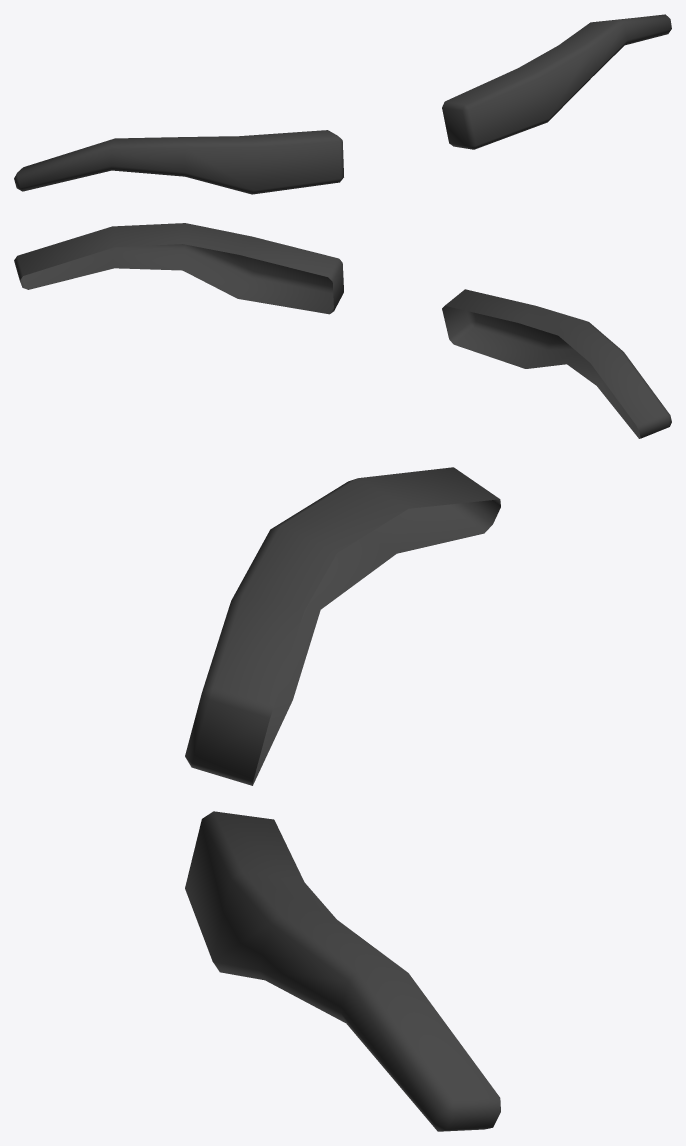
File: Eyebrow_007.glb
3 views of the same model, one above another, from view 1: azimuth 30°, elevation 25°; view 2: azimuth 150°, elevation 25°; view 3: azimuth 270°, elevation 25° (orthographic). The views are drawn at different scales.
Visible parts, largest first — view 1: Eyebrow_007; view 2: Eyebrow_007; view 3: Eyebrow_007.
Part boxes in pixels (x1,y1,x2,y2): Eyebrow_007: [14, 14, 671, 194]; Eyebrow_007: [14, 223, 671, 438]; Eyebrow_007: [185, 467, 500, 1131].
Bounding box in the file's own units: 0.2777 × 0.0255 × 0.0581.
Materials: 1 (1 with a texture image).
